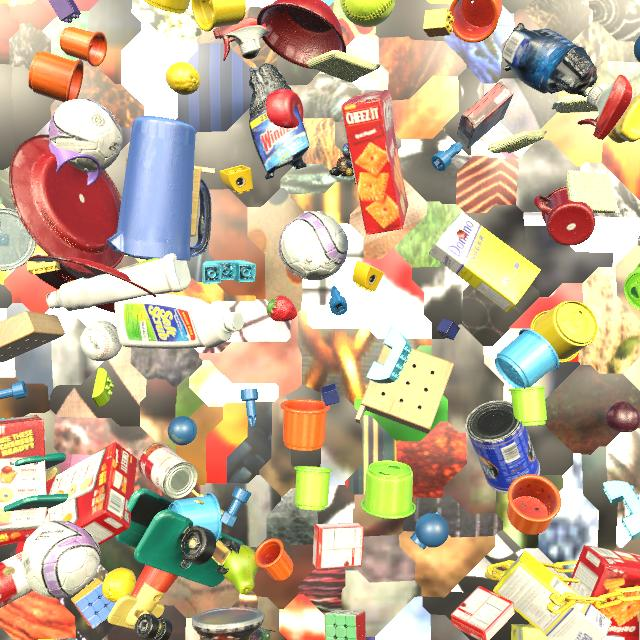ycb_002_master_chef_can: (465, 400, 540, 494), (0, 207, 36, 271)
ycb_003_cracker_box: (15, 442, 137, 555), (341, 90, 409, 235), (568, 545, 640, 640), (0, 415, 48, 546)
ycb_004_sugar_box: (429, 212, 541, 313), (493, 550, 612, 640), (511, 624, 625, 640)
ycb_005_tomato_soup_can: (138, 442, 198, 499), (0, 552, 33, 608)
ycb_006_mustard_bottle: (608, 94, 640, 143)
ycb_008_pudding_box: (457, 81, 514, 149)
ycb_009_gelatin_box: (451, 586, 515, 640), (312, 523, 364, 569)
ycb_012_strawberry: (266, 295, 297, 322)
ycb_013_apple: (266, 89, 303, 128)
ycb_014_lemon: (102, 567, 136, 602), (166, 62, 200, 95)
ycb_016_pear: (223, 545, 259, 594)
ycb_018_plum: (606, 401, 640, 432)
